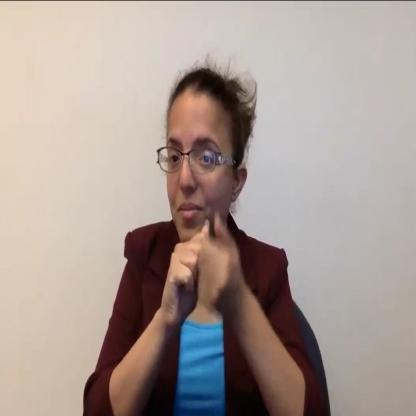HowAreYou: (168, 216, 245, 336)
